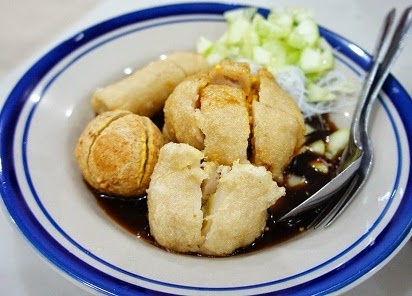pempek: (74, 53, 305, 254)
